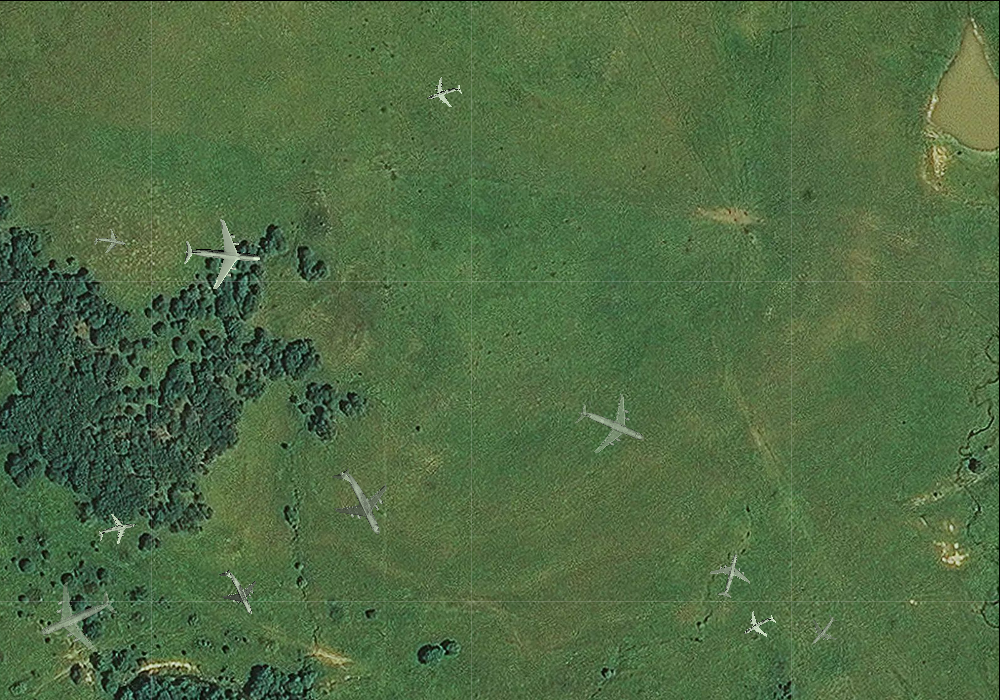plane: (24, 567, 127, 667), (313, 454, 406, 550), (565, 379, 658, 471), (179, 215, 263, 295), (206, 559, 269, 625), (704, 548, 756, 602), (800, 607, 846, 654), (736, 603, 782, 648), (421, 71, 466, 115), (94, 508, 138, 551), (91, 224, 128, 259)
